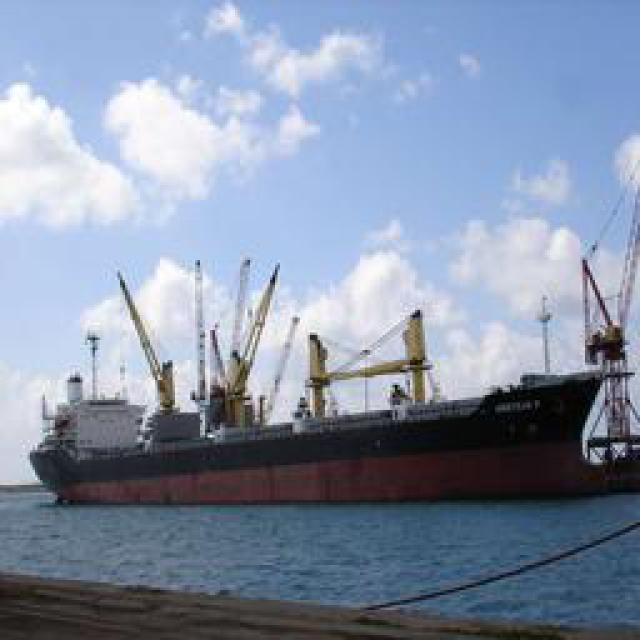Ship: (42, 257, 632, 505)
